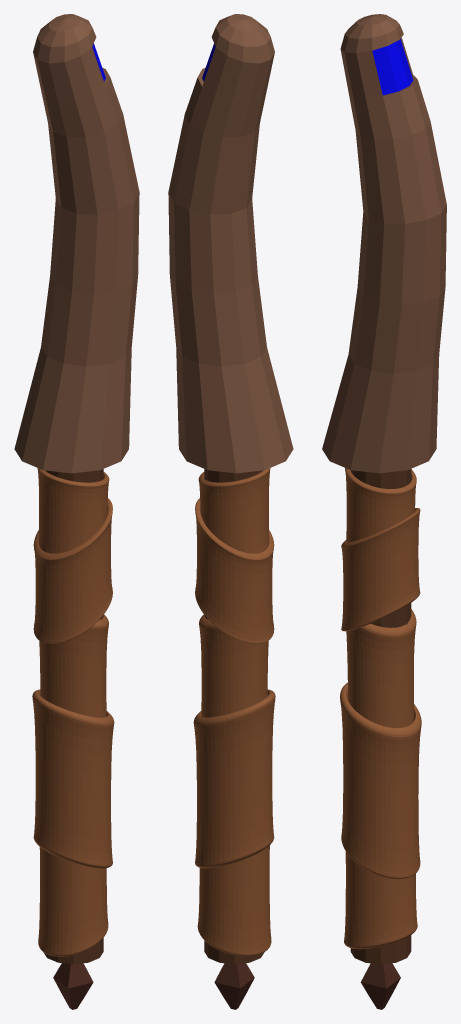
The model's file is Wand 345.glb.
The picture shows the model from 3 angles, left to right: view 1: azimuth 30°, elevation 25°; view 2: azimuth 150°, elevation 25°; view 3: azimuth 330°, elevation 25°; orthographic projection.
Parts seen in each view (by area): view 1: GeneratedWand; view 2: GeneratedWand; view 3: GeneratedWand.
Part boxes in pixels (<box>): GeneratedWand: <box>14,14,139,1009</box>; GeneratedWand: <box>168,14,293,1009</box>; GeneratedWand: <box>322,14,446,1009</box>.
Bounding box in the file's own units: 0.0644 × 0.5453 × 0.0572.
